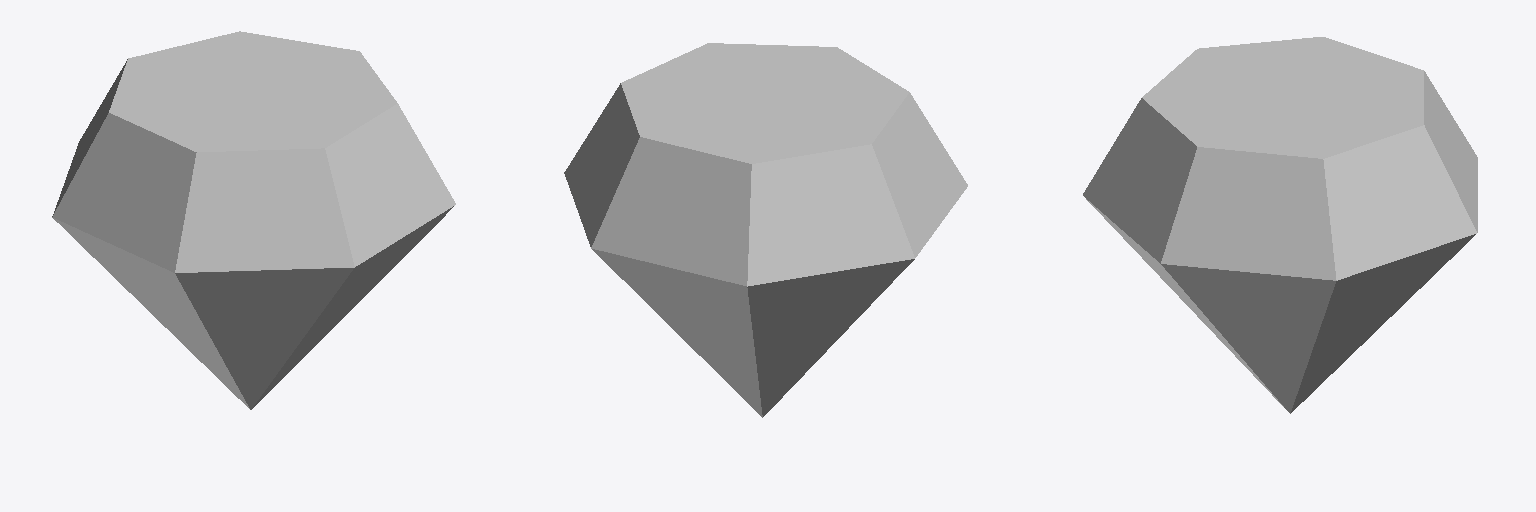
The model's file is diamond.obj.
The picture shows the model from 3 angles: view 1: azimuth 30°, elevation 25°; view 2: azimuth 150°, elevation 25°; view 3: azimuth 270°, elevation 25°; orthographic projection.
Parts seen in each view (by area): view 1: Cone; view 2: Cone; view 3: Cone.
Boxes of the visible parts, x1=… form: Cone: x1=52, y1=31, x2=455, y2=409; Cone: x1=564, y1=43, x2=967, y2=417; Cone: x1=1083, y1=37, x2=1477, y2=413.
Size of the model in its own units: 1.95 by 1.68 by 1.9.